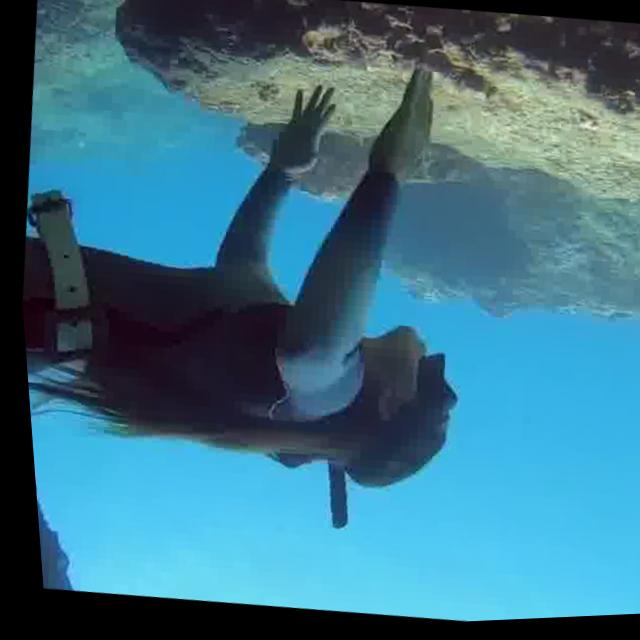human: (1, 6, 538, 541)
